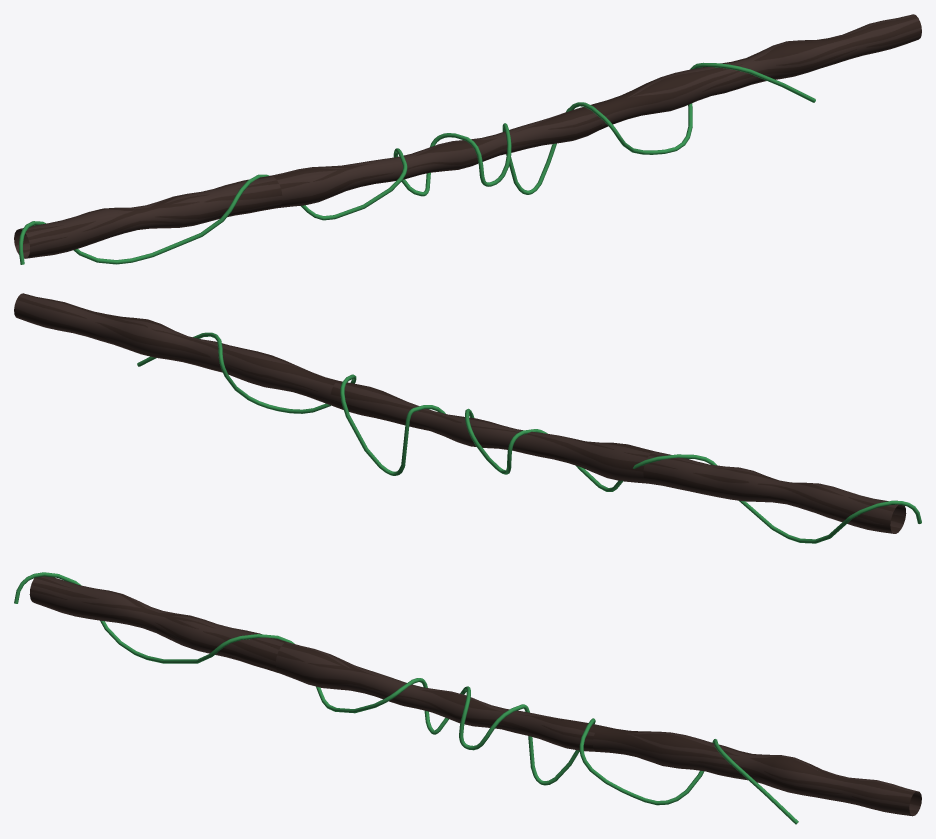
3 renders of one model, top to bottom at view 1: azimuth 30°, elevation 25°; view 2: azimuth 150°, elevation 25°; view 3: azimuth 330°, elevation 25°, orthographic.
Parts seen in each view (by area): view 1: 木头02_obj, 藤条; view 2: 木头02_obj, 藤条; view 3: 木头02_obj, 藤条.
Part boxes in pixels (box(x1,y1,x2,y2)): 木头02_obj: box(14, 14, 921, 258); 藤条: box(19, 62, 815, 264); 木头02_obj: box(14, 293, 906, 533); 藤条: box(137, 332, 921, 543); 木头02_obj: box(29, 576, 921, 816); 藤条: box(14, 572, 798, 824).
Bounding box in the file's own units: 857 × 86.17 × 54.66.
Materials: 2 (1 with a texture image).
